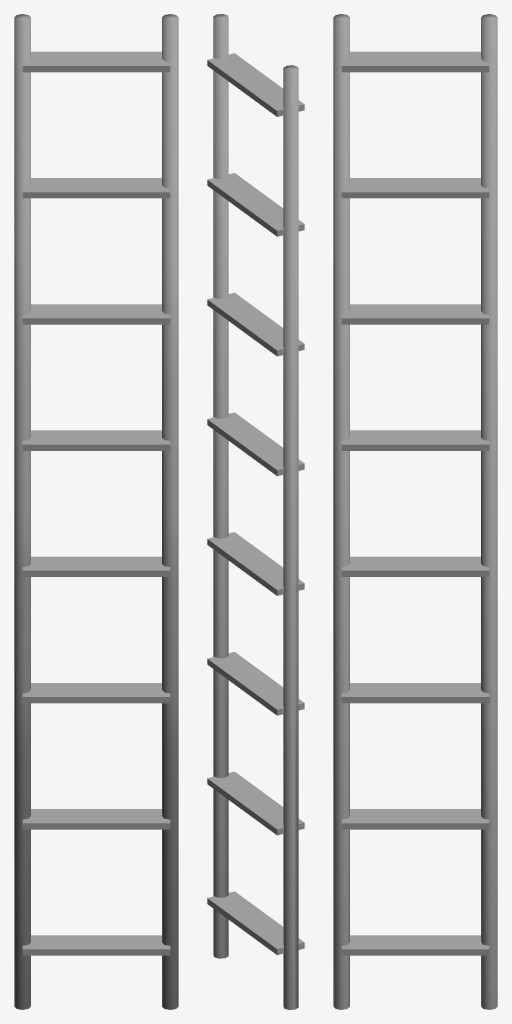
The model's file is TankLadder.fbx.
3 views of the same model, side by side, from view 1: azimuth 90°, elevation 25°; view 2: azimuth 210°, elevation 25°; view 3: azimuth 270°, elevation 25° (orthographic). The views are drawn at different scales.
Parts seen in each view (by area): view 1: TankLadder; view 2: TankLadder; view 3: TankLadder.
Boxes of the visible parts, x1,y1,x2,y2 form: TankLadder: (14,14,178,1009); TankLadder: (207,14,304,1009); TankLadder: (333,14,497,1009).
Bounding box in the file's own units: 18.84 × 614 × 92.53.
